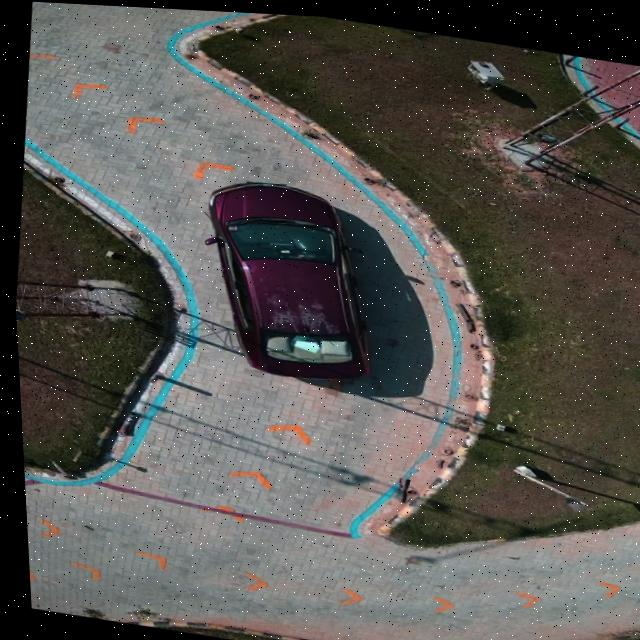car: (202, 178, 364, 374)
